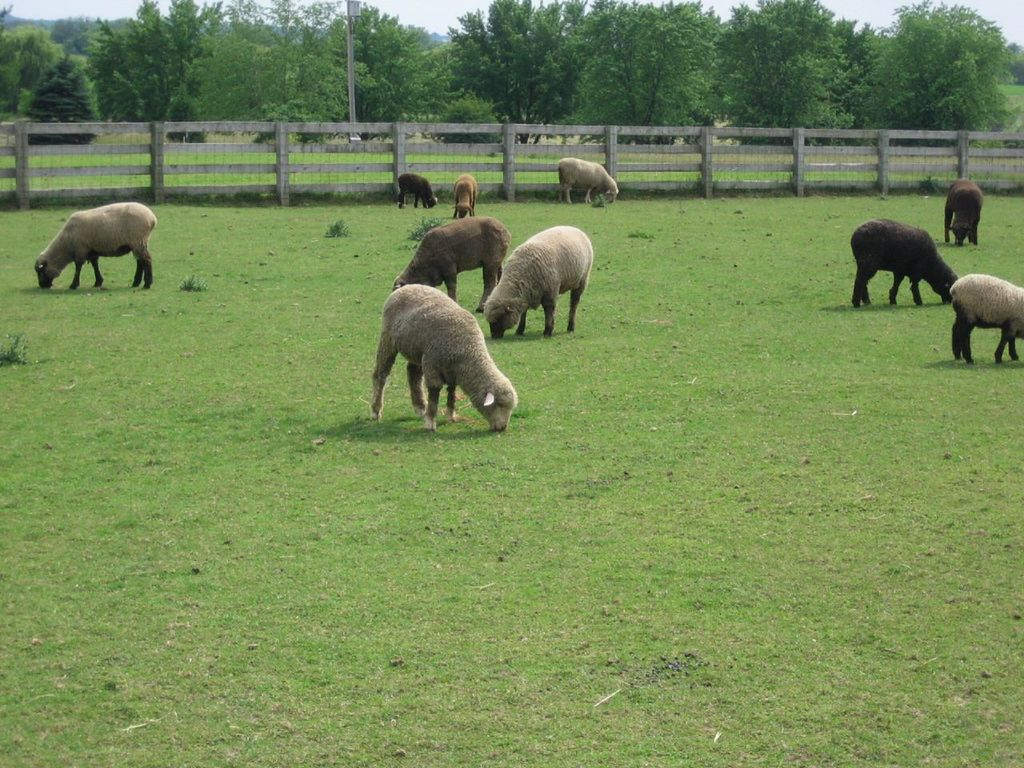sheep: (367, 280, 519, 433), (482, 218, 594, 340), (31, 200, 160, 290), (555, 153, 619, 204), (941, 175, 987, 243), (396, 169, 440, 208)
